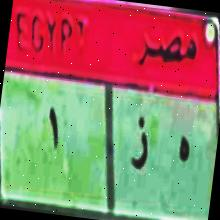1: (43, 102, 65, 156)
haa: (169, 129, 193, 171)
zay: (126, 112, 152, 180)
